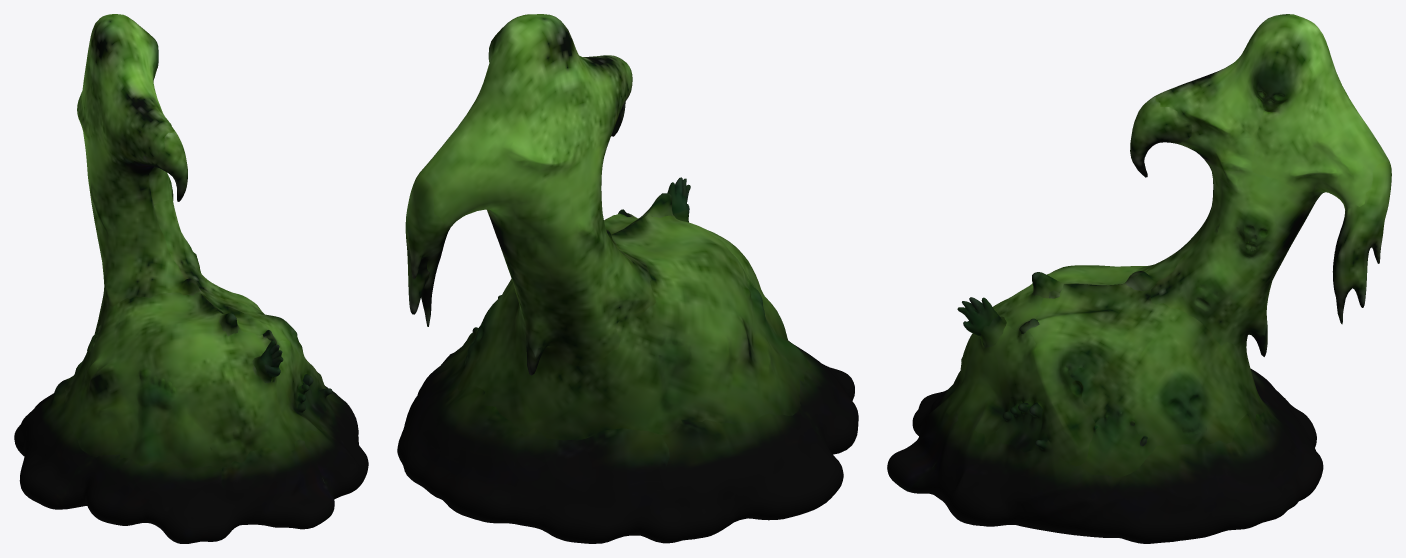
Rendered from MZ4250 - Oblex Spawn.glb.
3 views of the same model, side by side, from view 1: azimuth 30°, elevation 25°; view 2: azimuth 150°, elevation 25°; view 3: azimuth 270°, elevation 25° (orthographic). The views are drawn at different scales.
Visible parts, largest first — view 1: ORGANIC BASE SPHERE.001; view 2: ORGANIC BASE SPHERE.001; view 3: ORGANIC BASE SPHERE.001.
Boxes of the visible parts, bbox=[...] form: ORGANIC BASE SPHERE.001: bbox=[14, 14, 368, 543]; ORGANIC BASE SPHERE.001: bbox=[397, 14, 858, 543]; ORGANIC BASE SPHERE.001: bbox=[887, 14, 1391, 543].
Bounding box in the file's own units: 0.4765 × 0.604 × 0.5858.
Materials: 1 (1 with a texture image).
